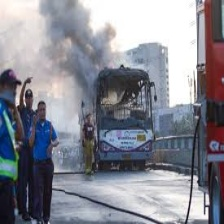smoke: (30, 2, 116, 83)
